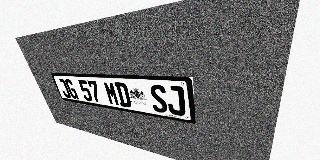5: (78, 80, 93, 102)
7: (86, 80, 103, 103)
D: (114, 82, 132, 108)
G: (64, 79, 79, 99)
J: (165, 85, 186, 116), (57, 78, 72, 98)
M: (103, 81, 120, 106)
S: (149, 84, 168, 114)
